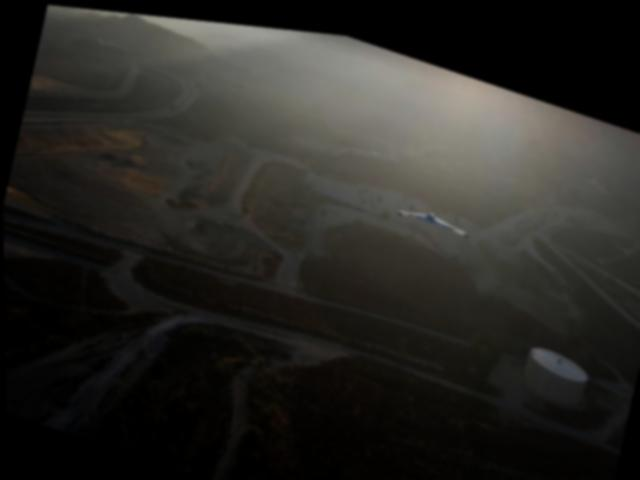iha: (395, 186, 470, 232)
